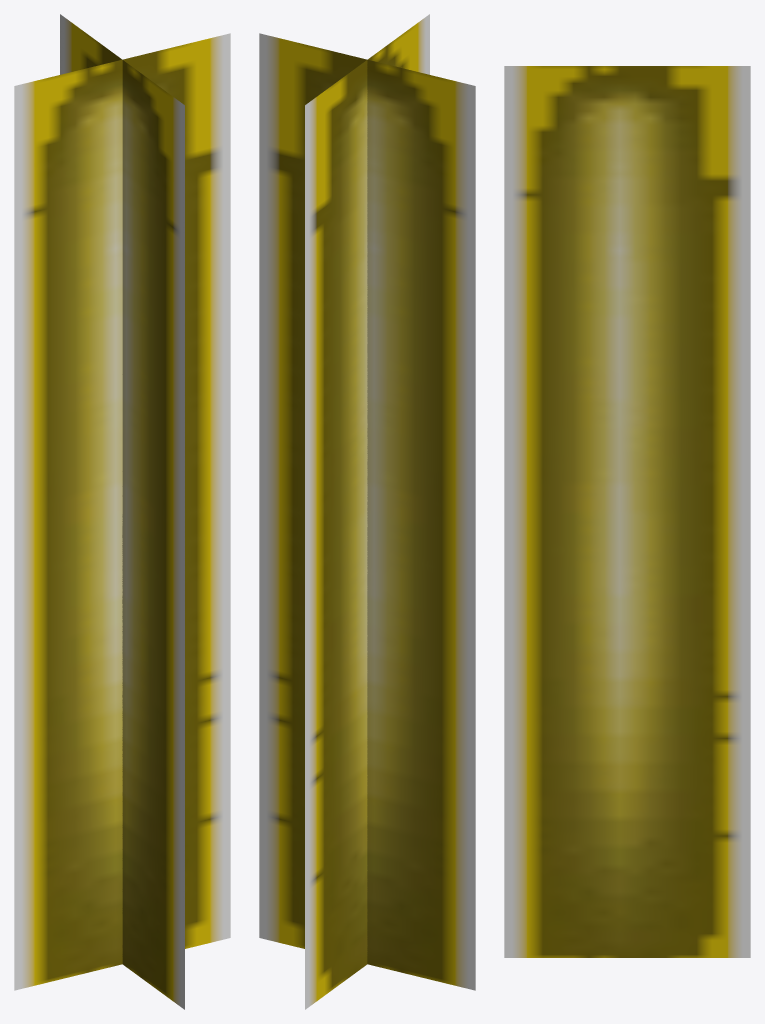
Rendered from bullet_01.FBX.
3 views of the same model, side by side, from view 1: azimuth 30°, elevation 25°; view 2: azimuth 150°, elevation 25°; view 3: azimuth 270°, elevation 25° (orthographic).
Parts seen in each view (by area): view 1: Plane001; view 2: Plane001; view 3: Plane001.
Boxes of the visible parts, box(x1,y1,x2,y2) form: Plane001: box(14, 14, 230, 1009); Plane001: box(259, 14, 475, 1009); Plane001: box(504, 66, 750, 957).
Bounding box in the file's own units: 3.2 × 12.8 × 3.2.
Materials: 1 (1 with a texture image).
